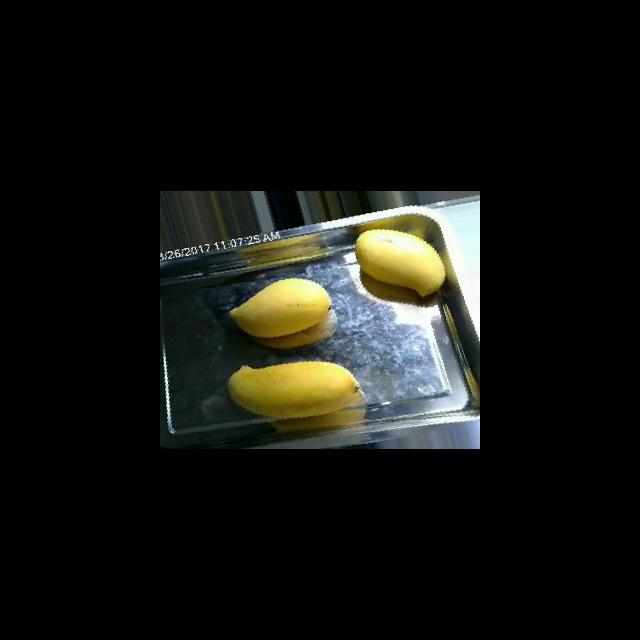mango: (227, 360, 364, 419), (355, 228, 446, 298), (228, 277, 331, 338)
